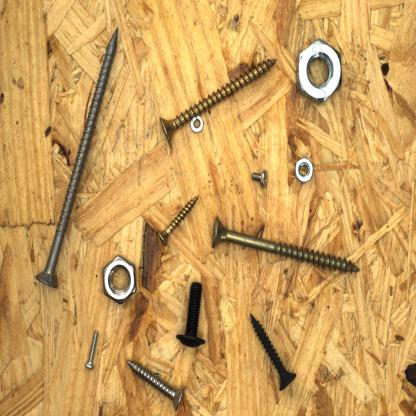screw: (34, 25, 121, 293), (158, 55, 280, 146), (210, 215, 363, 275), (249, 310, 298, 394), (125, 356, 188, 413), (174, 278, 206, 355), (83, 326, 100, 373), (250, 168, 270, 190)
